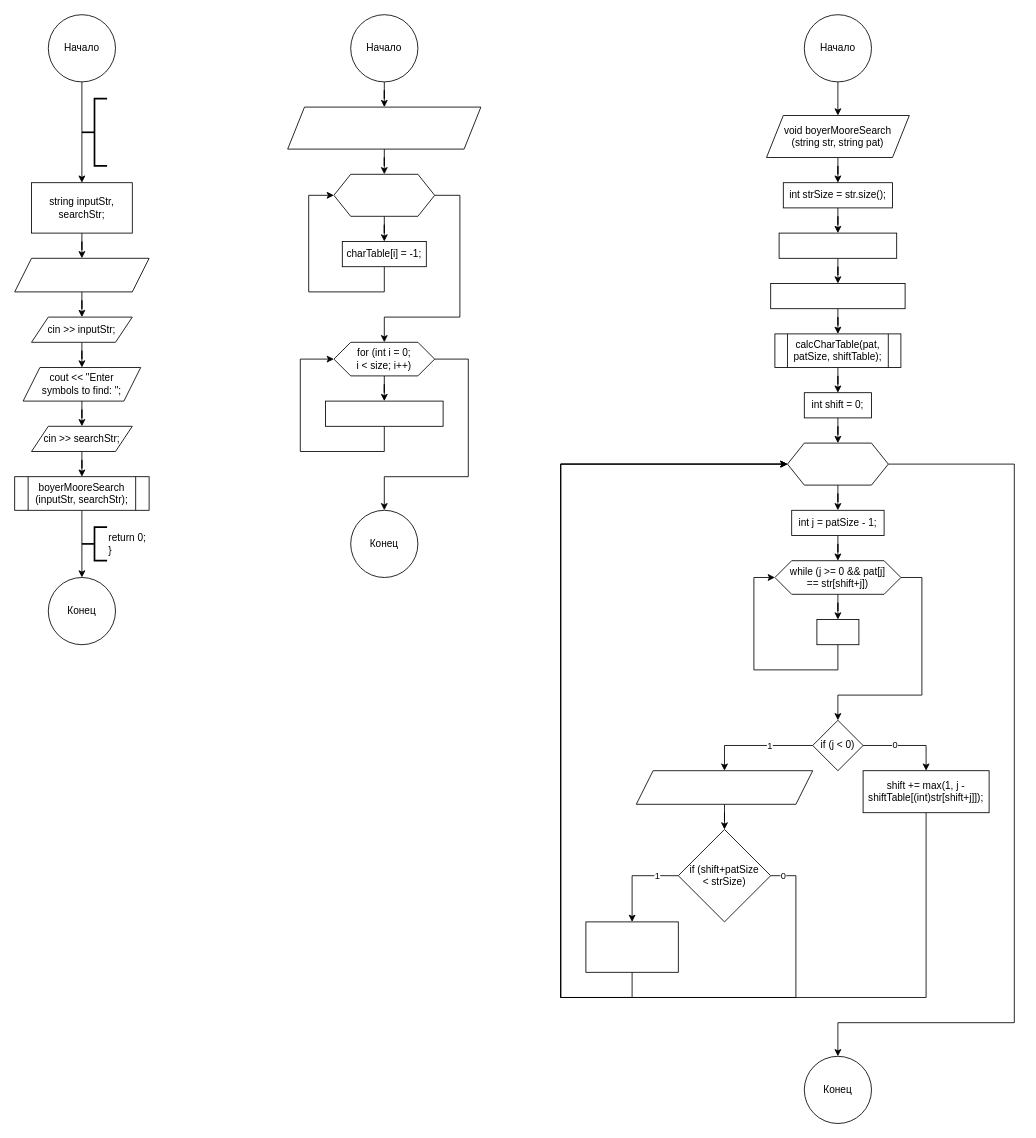
This 1036x1138 diagram has some shape labels left out. Each missing label, with the box of its shape:
#include <iostream> using namespace std; const int CHAR_NUM = 256; int main() {: (81, 97, 108, 166)
charTable[(int)pat[i]] = i;: (325, 400, 443, 426)
cout << "Enter string: ";: (14, 257, 149, 292)
cout << "Подстрока найдена на позиции: " << shift << endl;: (635, 770, 813, 804)
for (int i = 0; i < CHAR_NUM; i++): (333, 173, 435, 216)
int patSize = pat.size();: (778, 232, 897, 258)
int shiftTable[CHAR_NUM];: (770, 283, 905, 309)
j--;: (816, 619, 859, 645)
shift += patSize - shiftTable[(int)str [shift+patSize]];: (585, 921, 678, 972)
void calcCharTable(string pat, int size, int charTable[CHAR_NUM]): (287, 106, 481, 149)
while (shift <= (strSize - patSize)): (787, 442, 888, 485)
